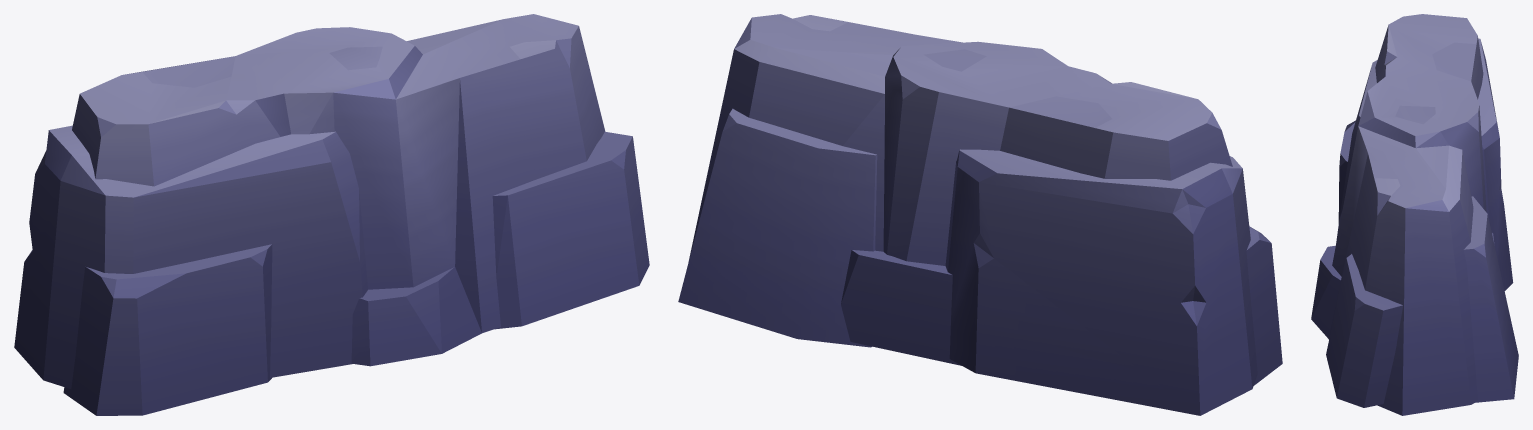
File: volcanic-rock.obj
The picture shows the model from 3 angles, left to right: view 1: azimuth 30°, elevation 25°; view 2: azimuth 150°, elevation 25°; view 3: azimuth 270°, elevation 25°; orthographic projection. The views are drawn at different scales.
Parts seen in each view (by area): view 1: volcanic-rock; view 2: volcanic-rock; view 3: volcanic-rock.
Part boxes in pixels (bbox=[...]): volcanic-rock: bbox=[14, 14, 649, 415]; volcanic-rock: bbox=[678, 14, 1282, 415]; volcanic-rock: bbox=[1311, 14, 1518, 415].
Bounding box in the file's own units: 108 × 47.26 × 42.72.
Materials: 1 (1 with a texture image).
